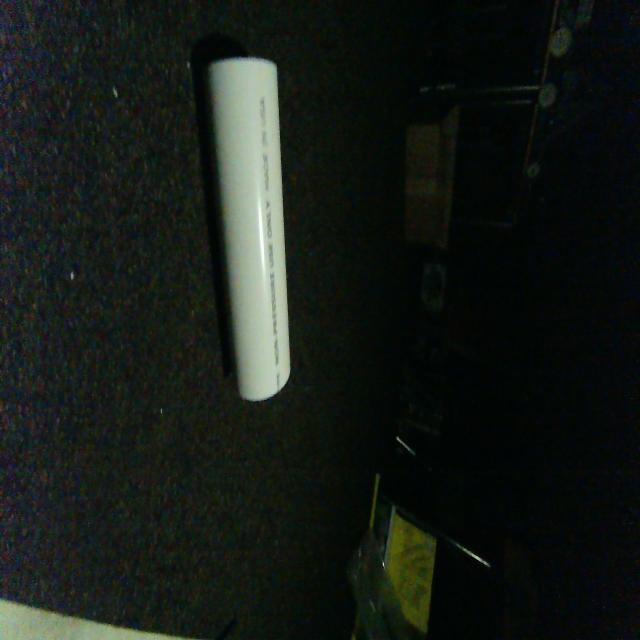coral: (204, 53, 290, 401)
